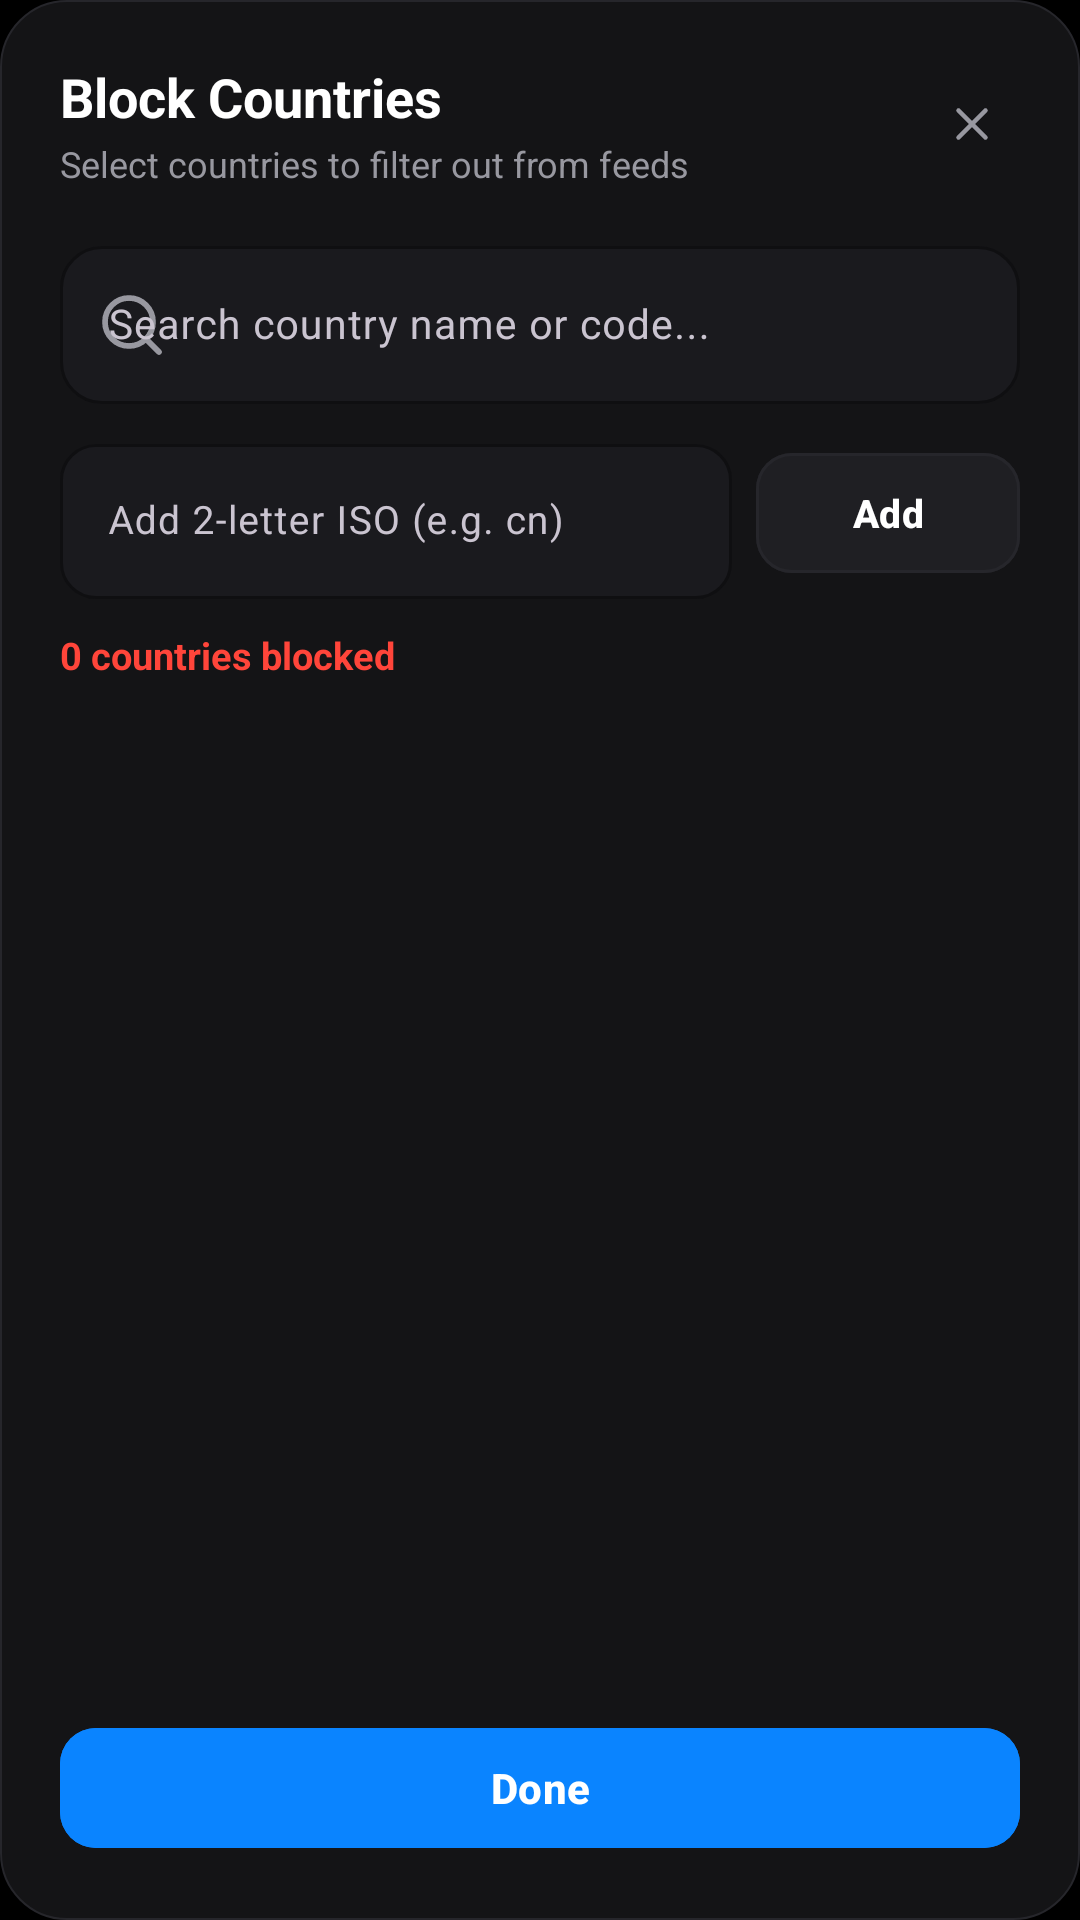

Locate icon controls on the screen. Image size 1080w x 1920h, boxes as (x1, y1, x2, y2).
close: (956, 108, 988, 140)
